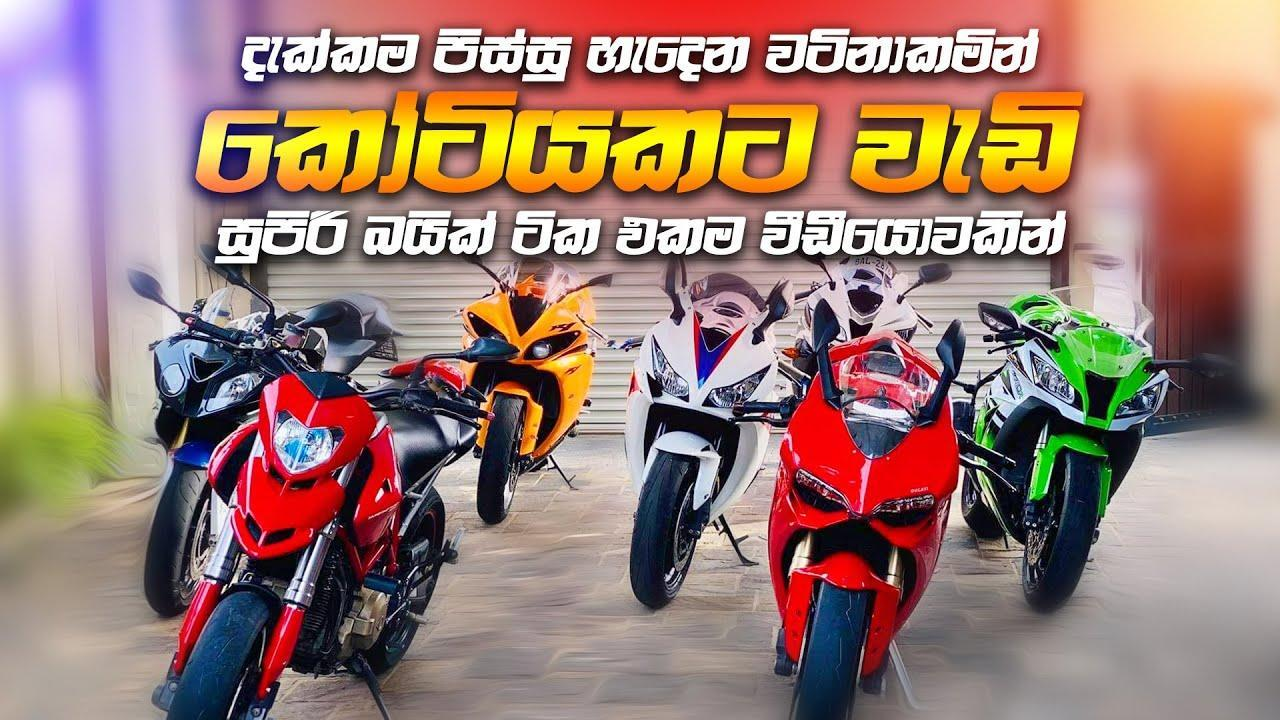motorbike: (152, 243, 522, 720), (957, 281, 1228, 613), (767, 299, 960, 720), (618, 236, 798, 610), (127, 265, 294, 617), (453, 247, 614, 527)
